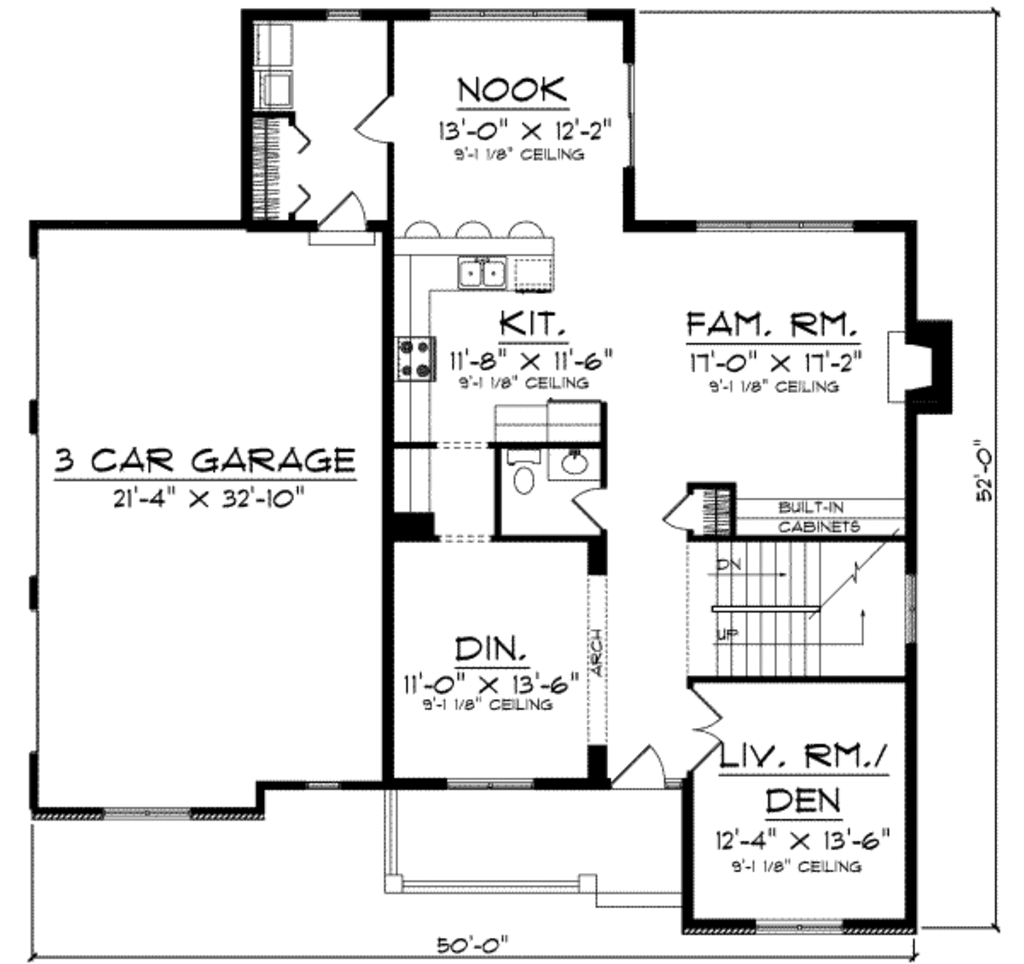door: (302, 188, 372, 249), (683, 680, 722, 785), (609, 732, 677, 792), (561, 486, 624, 535), (652, 488, 708, 536), (353, 94, 400, 149)
kitchen_bar: (395, 211, 572, 335)
large_sink: (505, 448, 550, 510)
small_sink: (552, 449, 599, 483)
stairs: (690, 546, 902, 671)
window: (428, 2, 586, 33), (106, 796, 189, 823), (452, 770, 540, 794), (693, 220, 855, 232)
